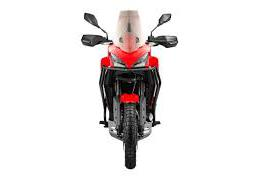motorcycle: (71, 9, 186, 173)
